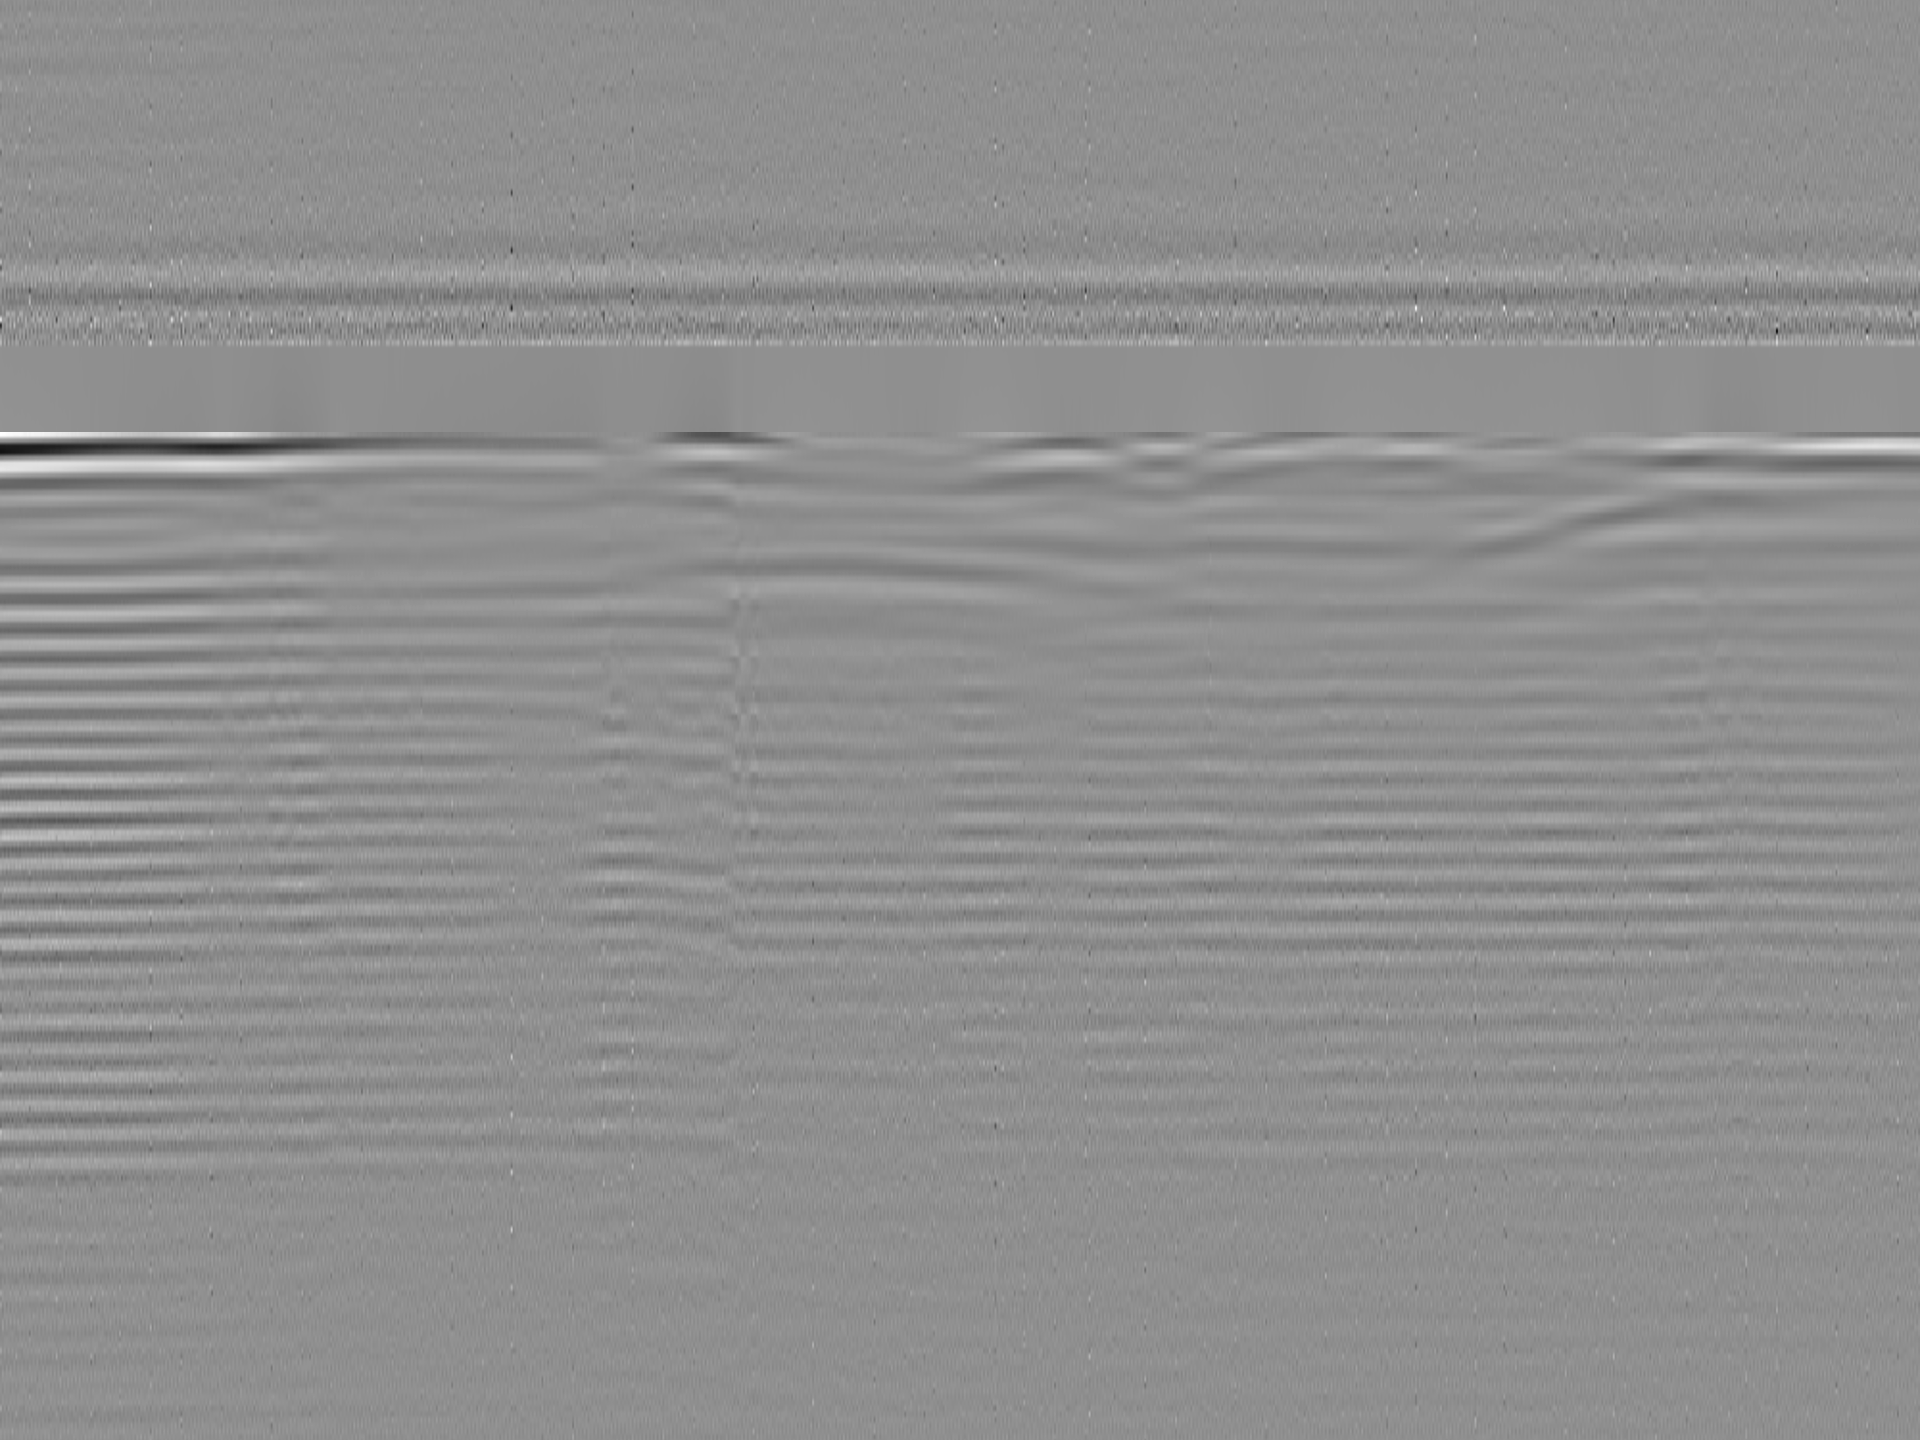Tunnel: (460, 545, 1243, 643)
